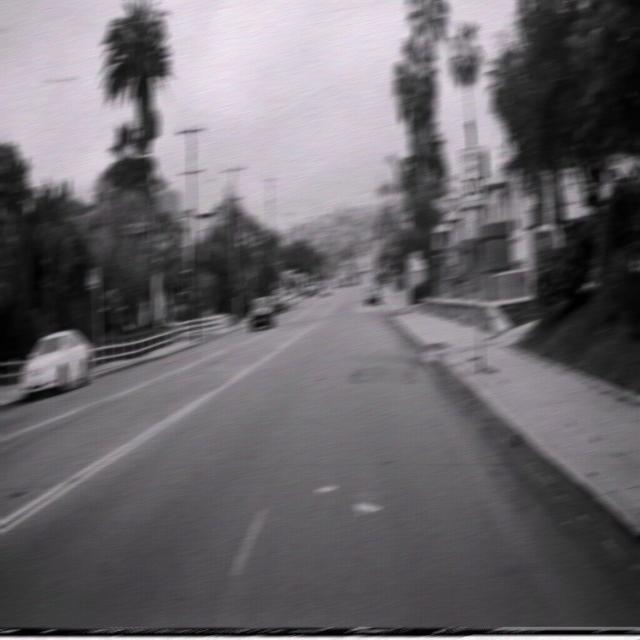speedLimit30: (458, 144, 485, 203)
